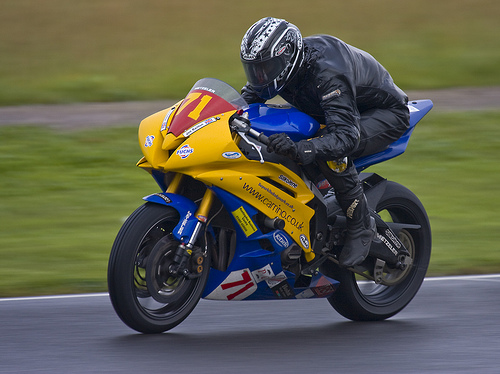helmet: (233, 18, 305, 94)
